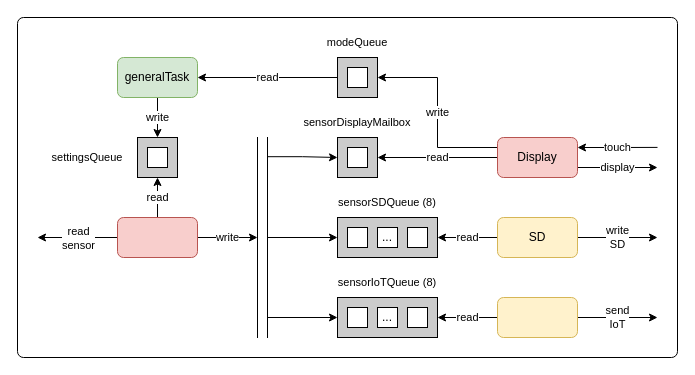
This 695x375 diagram has some shape labels left out. Here are the shapes that lost their labels. From the top down, the centre of each, then its label:
the point at 157,237: Sensor DS18B20
the point at 537,317: IoT
